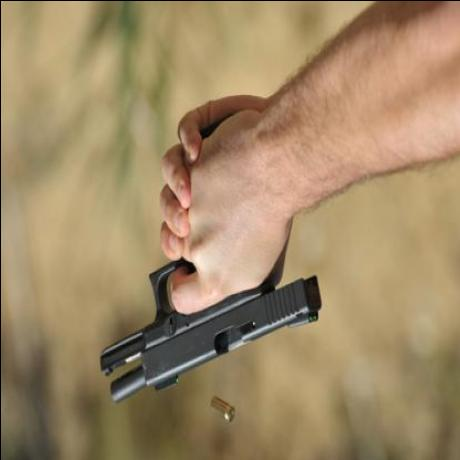1: (160, 1, 460, 316)
weapon: (90, 197, 332, 405)
